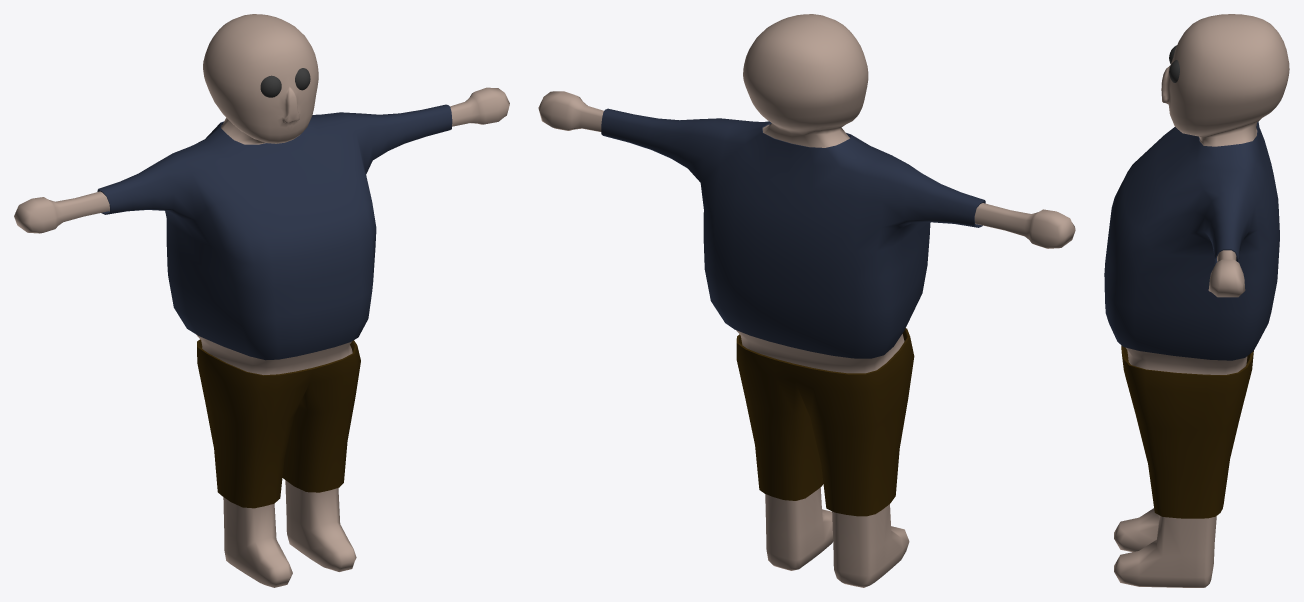
The model's file is PlayerCharacter.fbx.
The picture shows the model from 3 angles, left to right: view 1: azimuth 30°, elevation 25°; view 2: azimuth 150°, elevation 25°; view 3: azimuth 270°, elevation 25°; orthographic projection. The views are drawn at different scales.
Parts seen in each view (by area): view 1: Shirt, Body, Pants, Eyes; view 2: Shirt, Body, Pants; view 3: Shirt, Body, Pants, Eyes.
Boxes of the visible parts, bbox=[...] form: Shirt: bbox=[97, 104, 452, 360]; Body: bbox=[14, 14, 509, 587]; Pants: bbox=[197, 339, 360, 508]; Eyes: bbox=[260, 68, 310, 97]; Shirt: bbox=[601, 108, 985, 358]; Body: bbox=[538, 14, 1075, 587]; Pants: bbox=[736, 328, 914, 516]; Shirt: bbox=[1104, 121, 1279, 360]; Body: bbox=[1114, 14, 1289, 587]; Pants: bbox=[1121, 345, 1253, 518]; Eyes: bbox=[1169, 45, 1179, 82].
Size of the model in its own units: 7.89 by 8.06 by 2.47.
